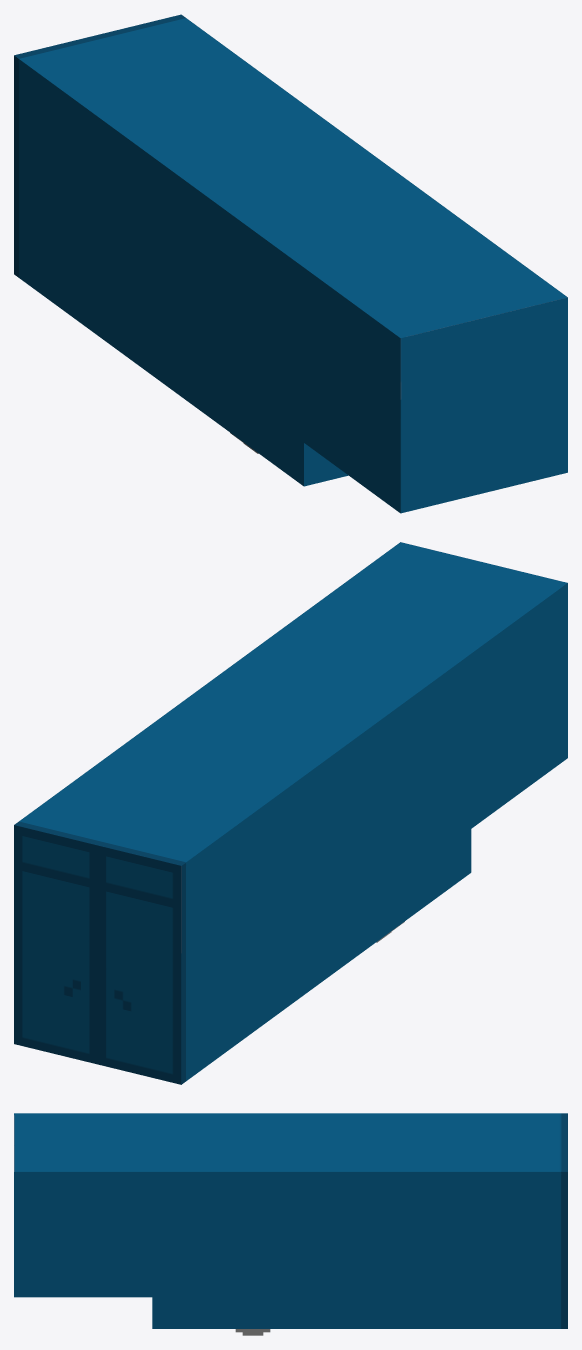
File: Trailer_Box_Var2_1.obj
3 views of the same model, one above another, from view 1: azimuth 30°, elevation 25°; view 2: azimuth 150°, elevation 25°; view 3: azimuth 270°, elevation 25° (orthographic). The views are drawn at different scales.
Visible parts, largest first — view 1: Trailer_Box_Var2_1_Trailer_Box_Var2_1.001; view 2: Trailer_Box_Var2_1_Trailer_Box_Var2_1.001; view 3: Trailer_Box_Var2_1_Trailer_Box_Var2_1.001.
Boxes of the visible parts, <box> form: Trailer_Box_Var2_1_Trailer_Box_Var2_1.001: <box>14,14,567,513</box>; Trailer_Box_Var2_1_Trailer_Box_Var2_1.001: <box>14,542,567,1084</box>; Trailer_Box_Var2_1_Trailer_Box_Var2_1.001: <box>14,1113,567,1335</box>.
Bounding box in the file's own units: 2 × 2.7 × 8.
